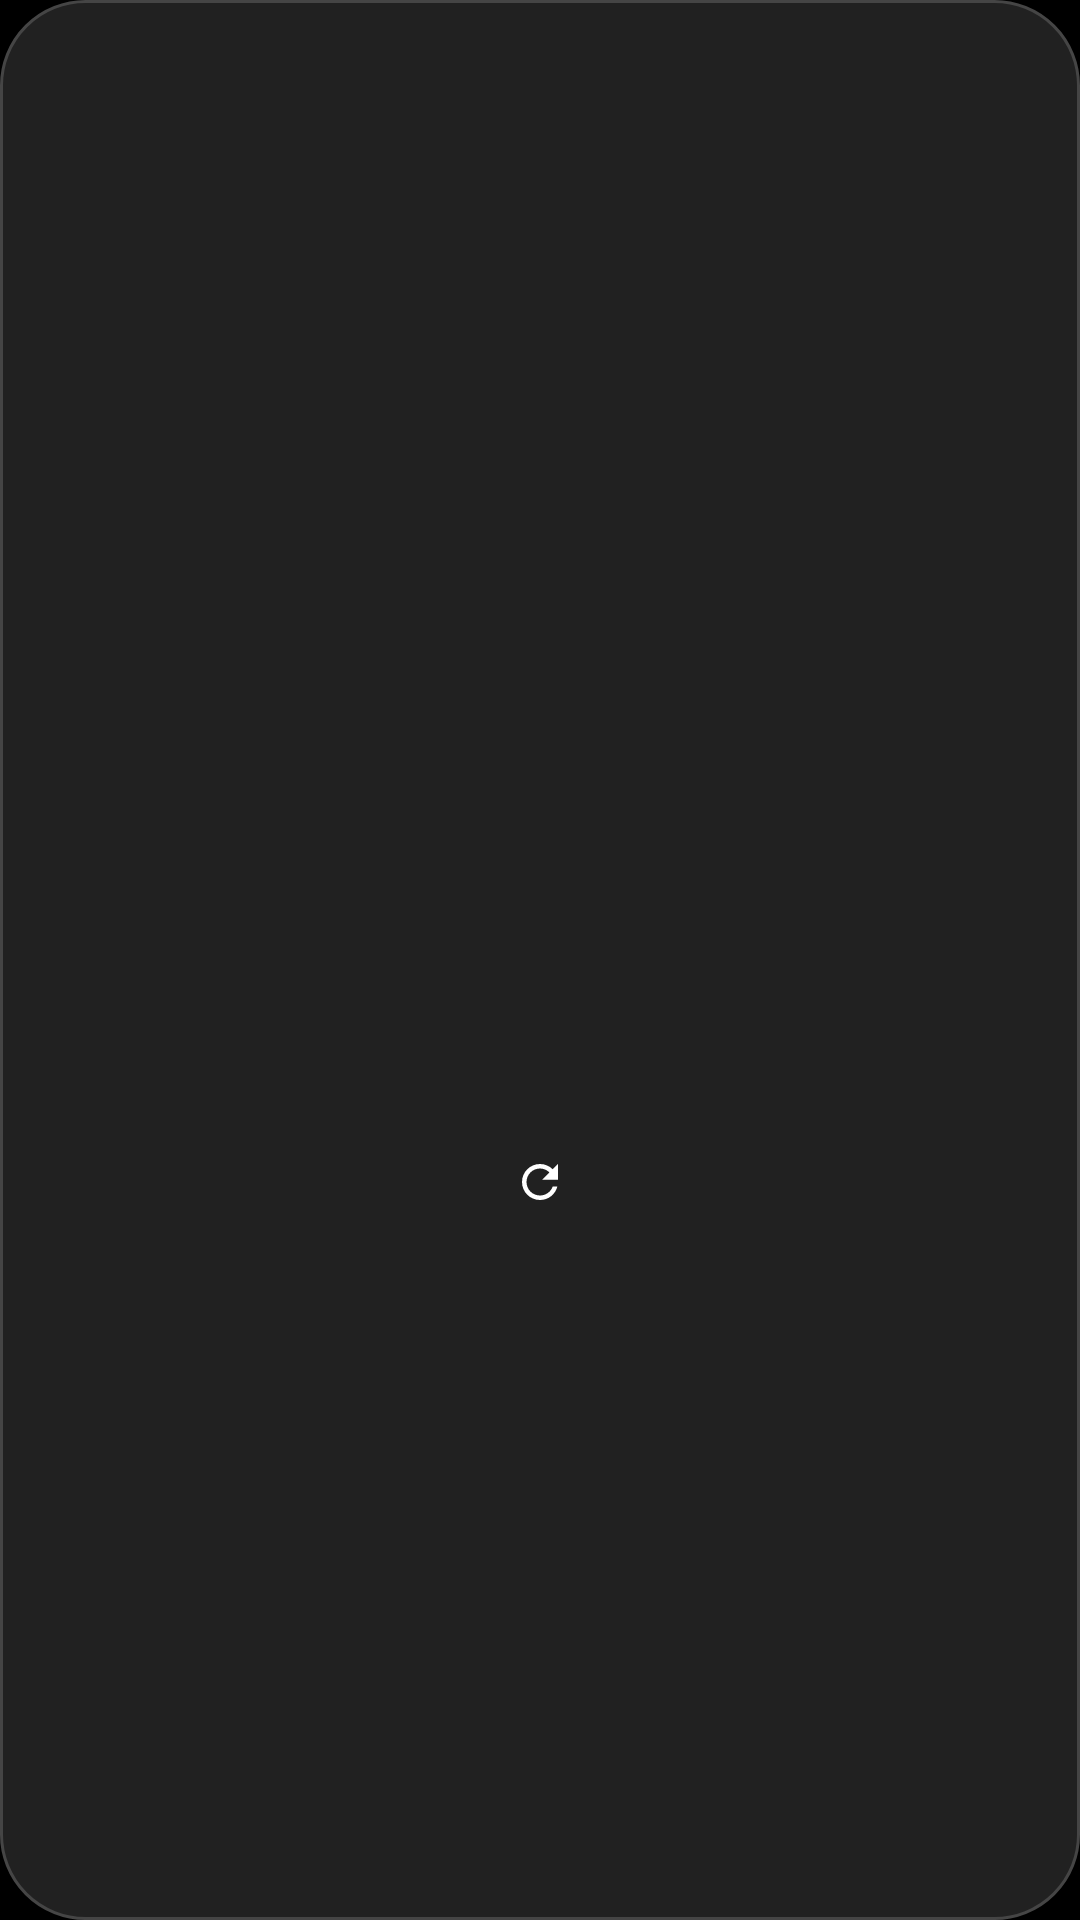

Where icons sit on this 1080px×1920px app screen, as box=[x1, y1, x2, y2]:
Refresh usage: box=[522, 1164, 558, 1200]
